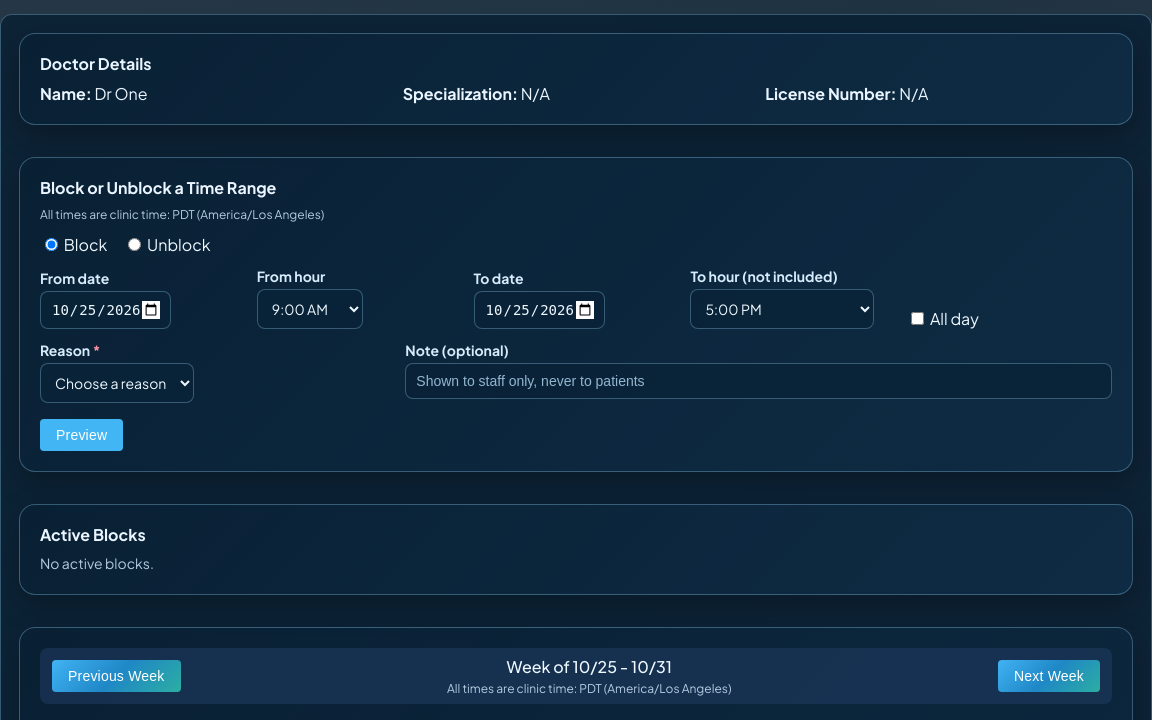
ManageAvailabilityPage range block › previews again when the schedule changed since the preview (409)
Expected: the heading "Block or Unblock a Time Range" is shown, [40,177,276,198]
Type "2026-11-03" into the date field labelled "From date" at (106, 310), box [40,291,171,329]
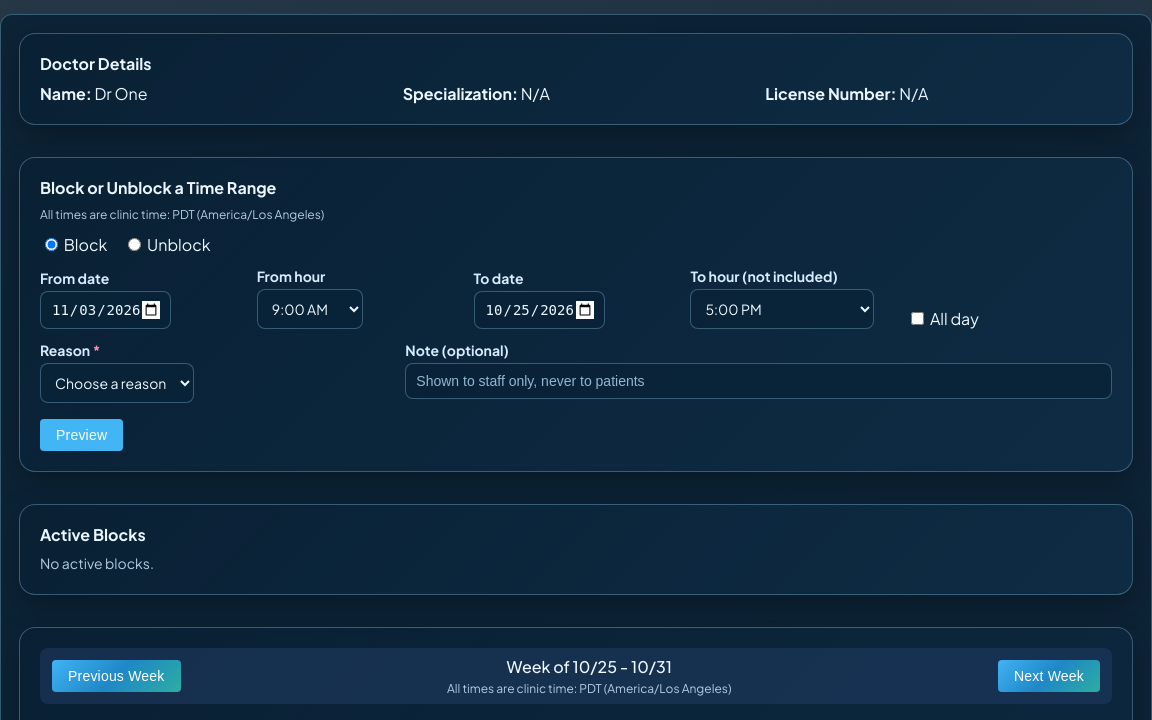
Select "9:00 AM" in the dropdown labelled "From hour" at (310, 309), box [257,289,363,329]
Type "2026-11-05" into the date field labelled "To date" at (539, 310), box [474,291,605,329]
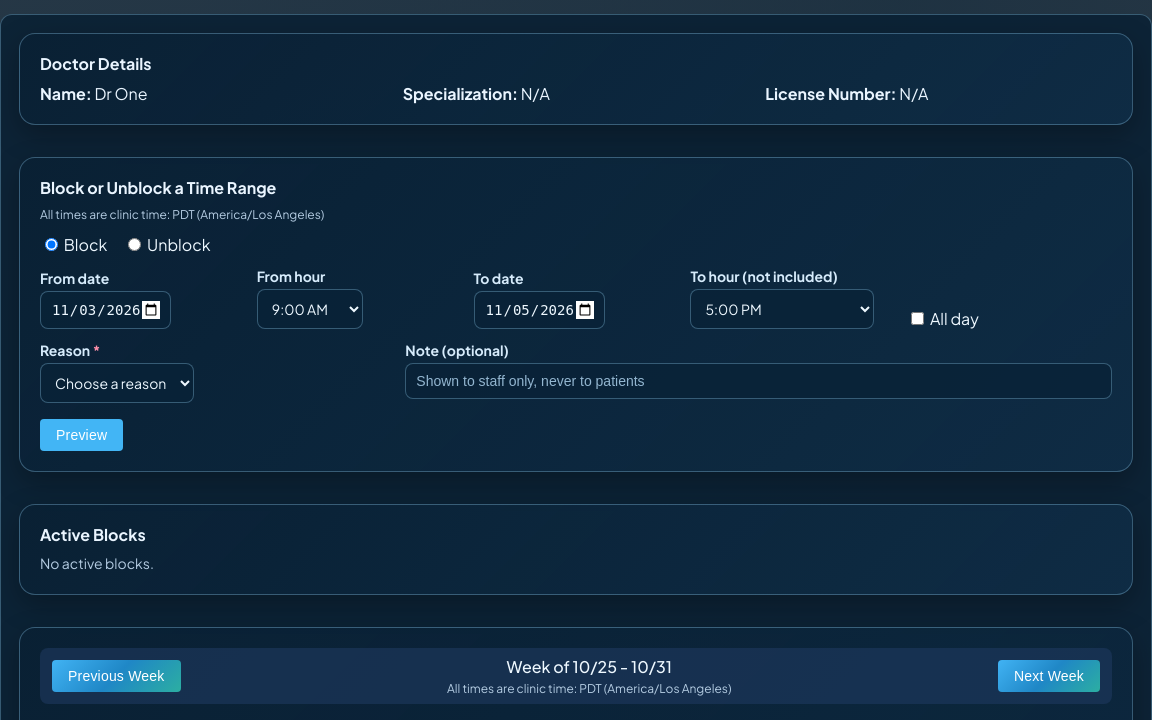
Select "5:00 PM" in the dropdown labelled "To hour (not included)" at (782, 309), box [690,289,874,329]
Select "Sick" in the dropdown labelled "Reason *" at (117, 383), box [40,363,194,403]
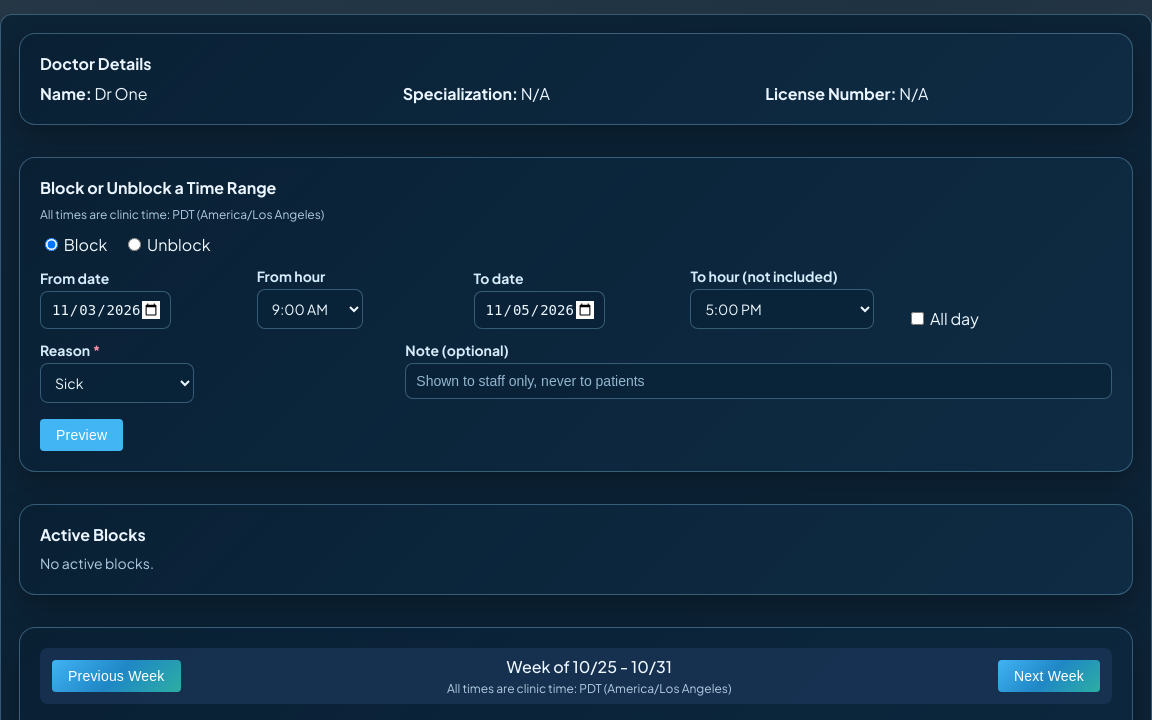
Click the button "Preview" at (82, 435), box [40,419,123,451]
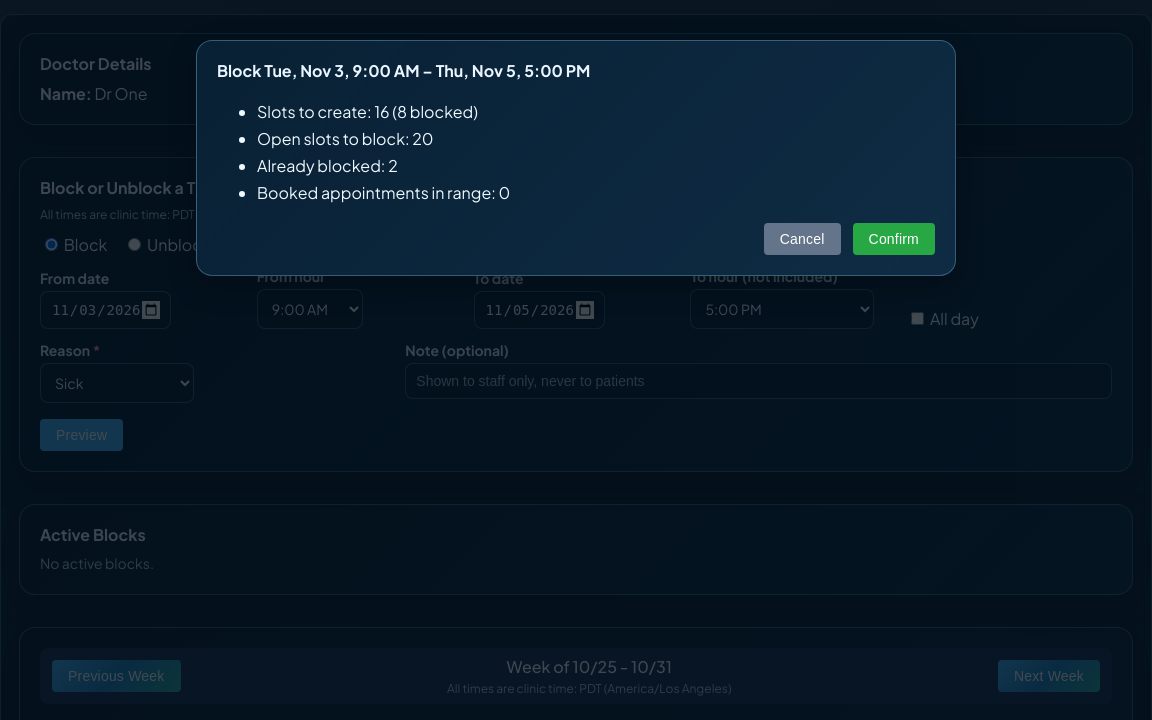
Click the button "Confirm" at (894, 238), box [853,222,935,254]
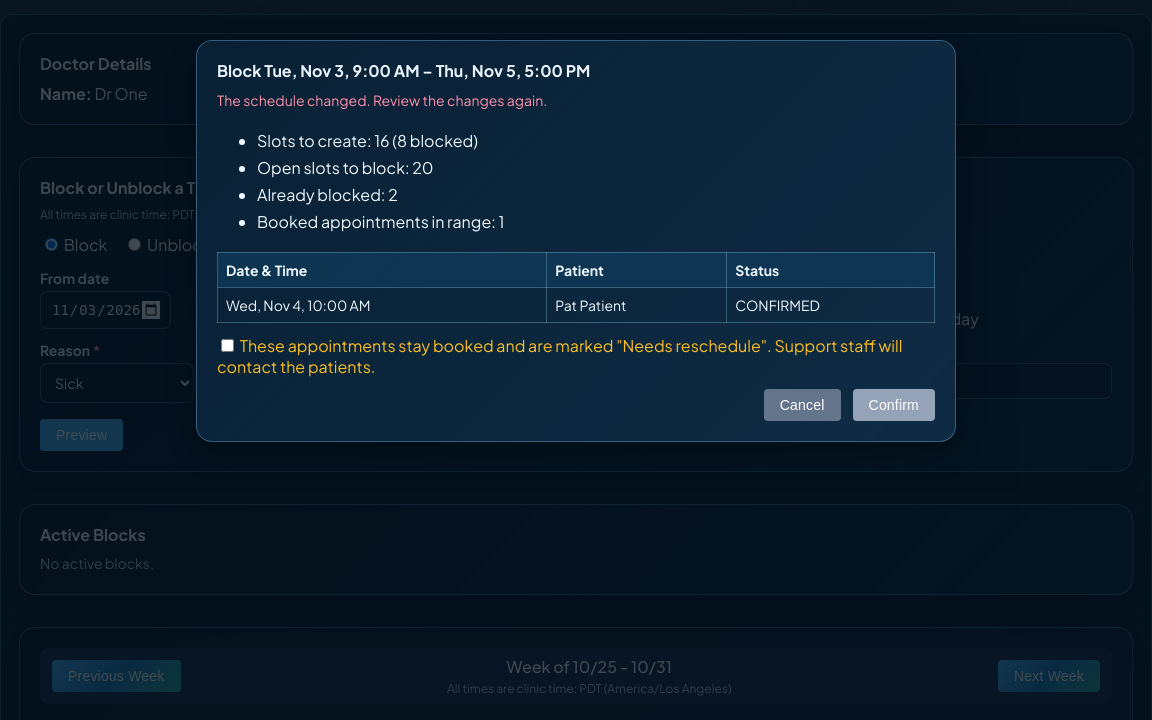
Expected: the message reads "The schedule changed. Review the changes again.", [217,91,547,109]
Expected: the text "Pat Patient" is shown, [547,287,727,322]
Expected: the button "Confirm" is disabled, [853,388,935,420]
